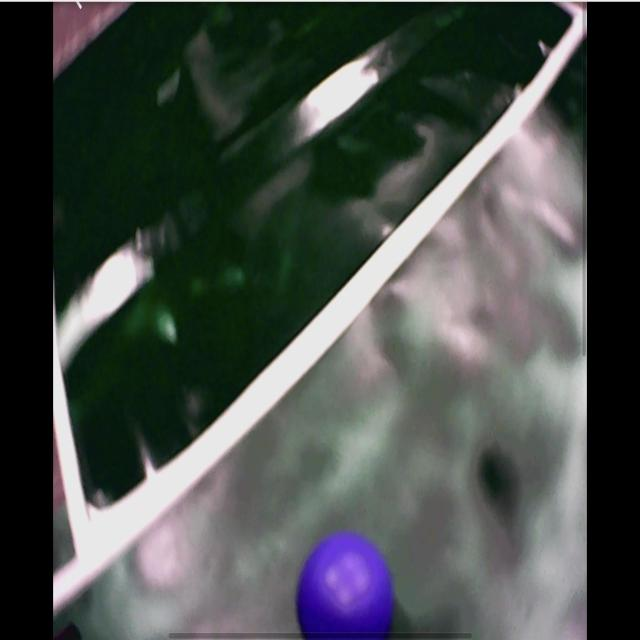ball: (298, 537, 395, 640)
